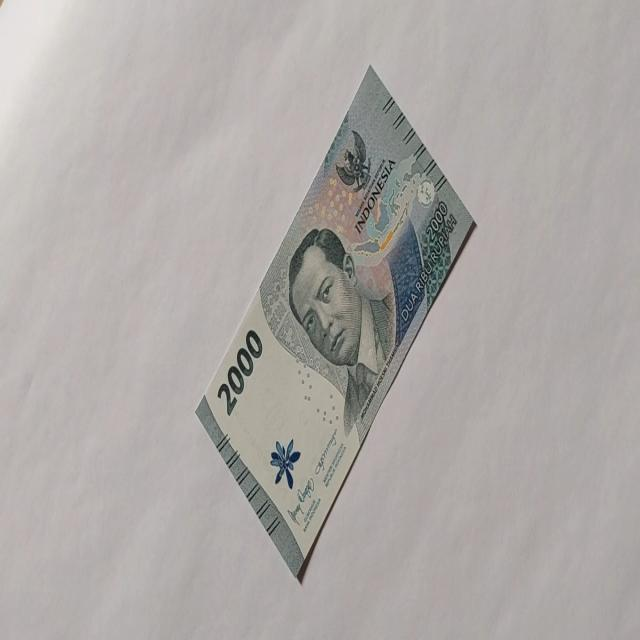dua ribu rupiah: (194, 63, 477, 582), (287, 224, 397, 438), (216, 327, 263, 417)
